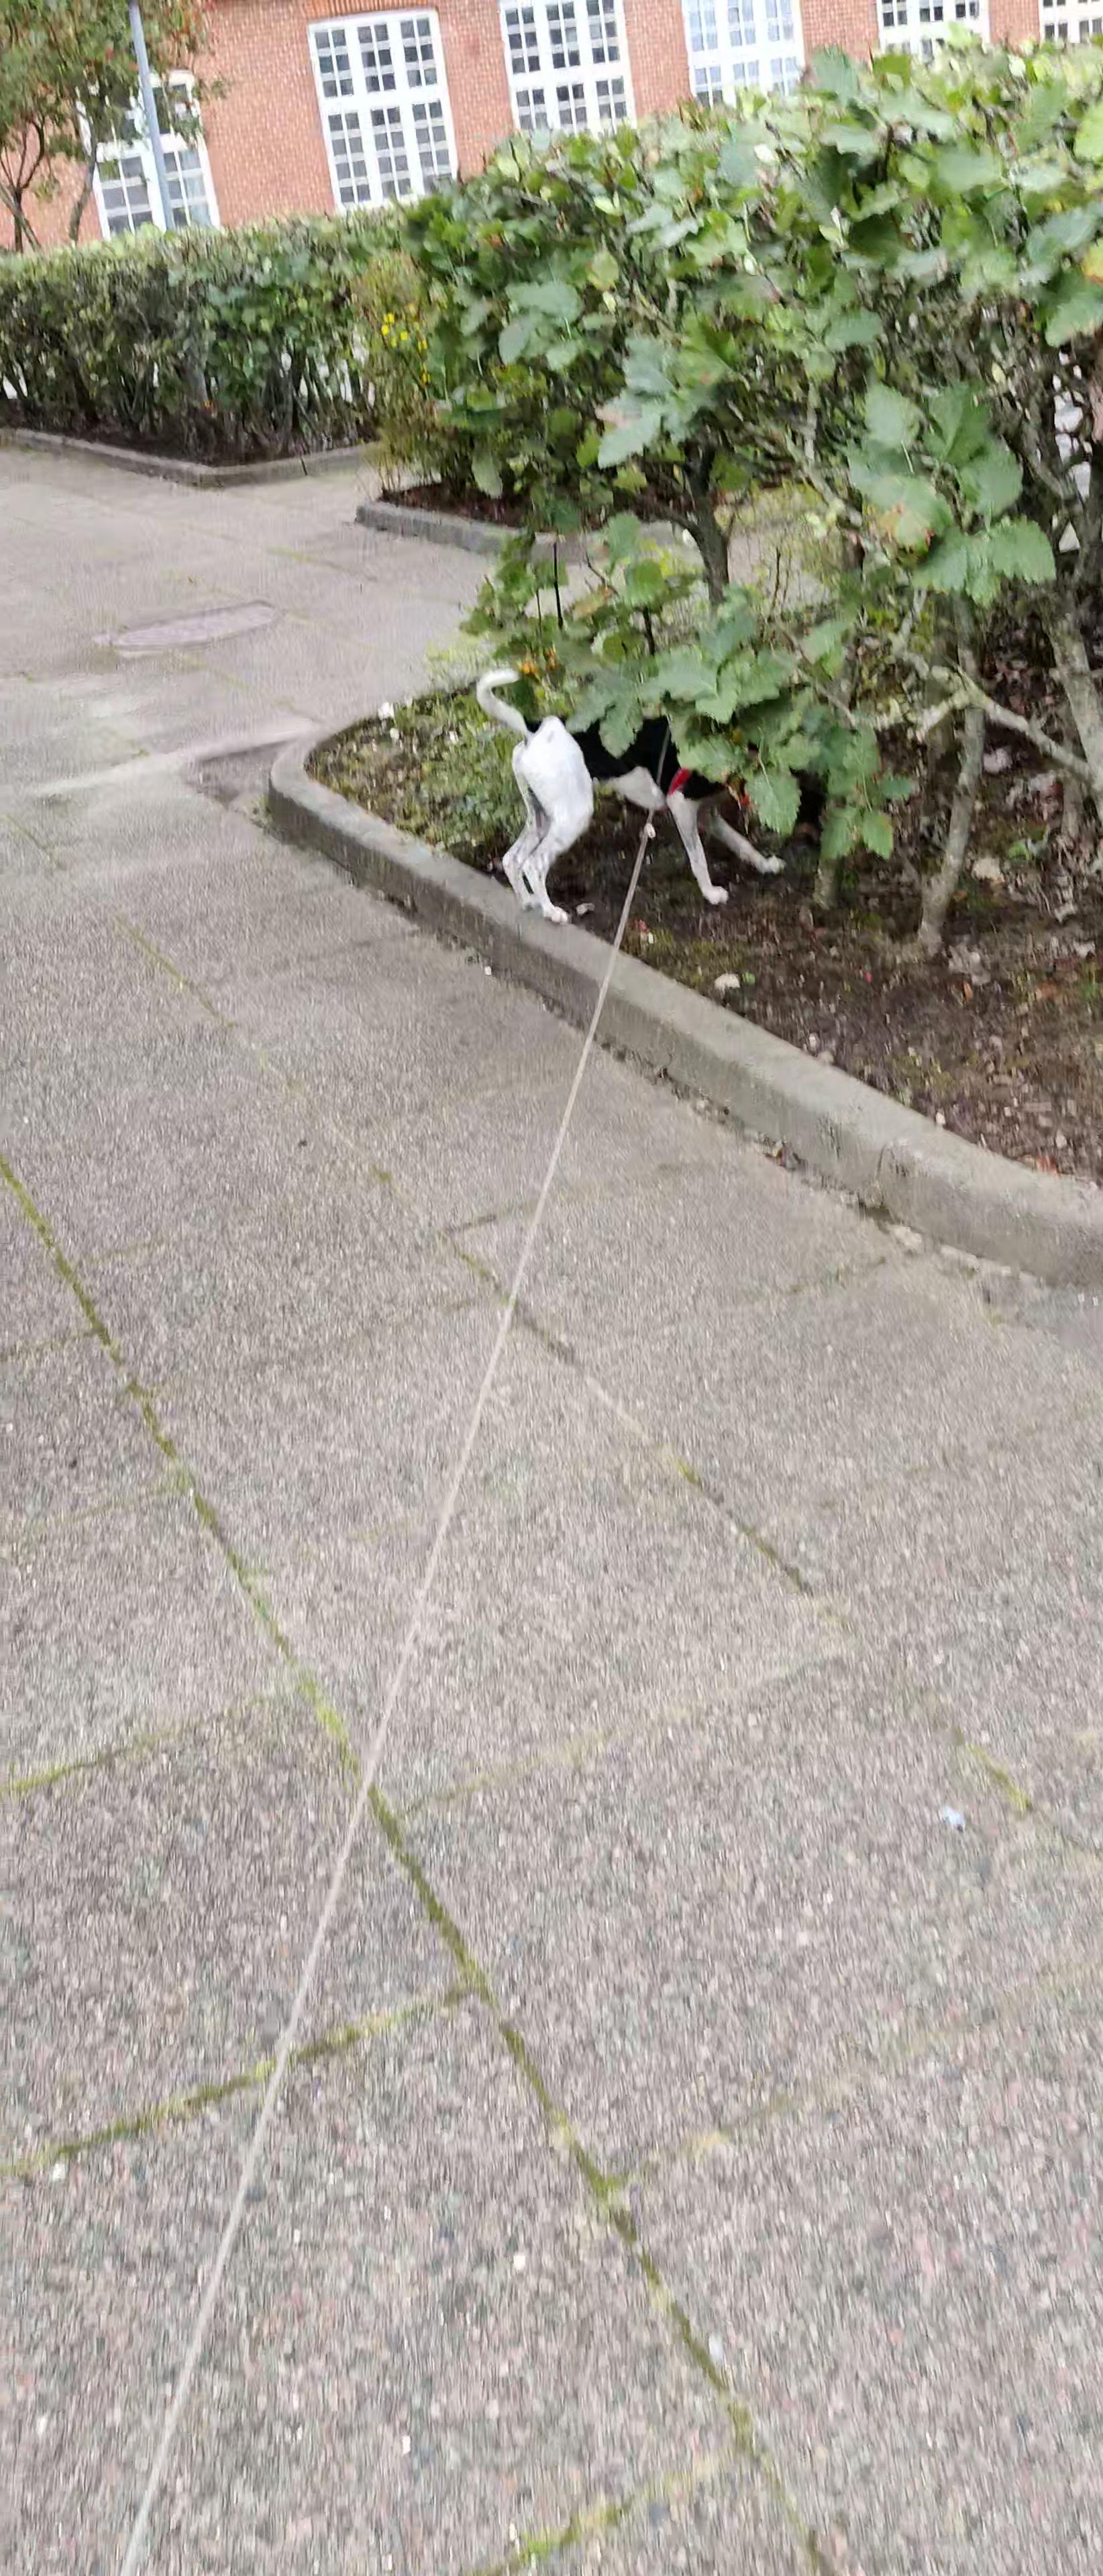Dog: (470, 667, 787, 925)
